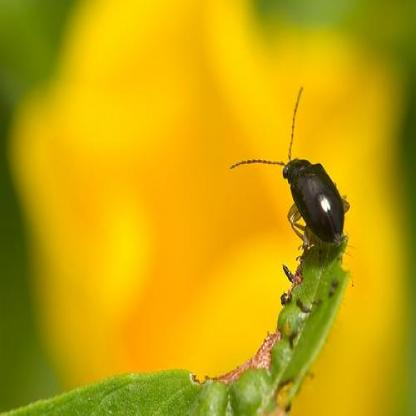beetle: (238, 105, 354, 239)
